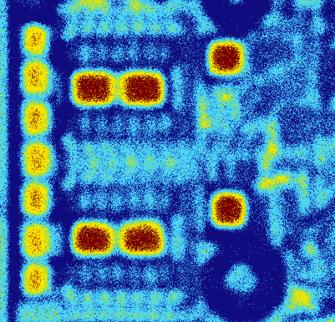Pad 1: (118, 71, 164, 106), (119, 221, 164, 255), (72, 71, 115, 106), (72, 221, 114, 256), (208, 41, 244, 76), (211, 192, 247, 226)
Pad 2: (24, 224, 50, 258), (24, 143, 50, 175), (24, 102, 49, 135), (23, 264, 48, 296), (24, 61, 48, 94), (23, 184, 48, 214), (23, 26, 46, 55)
